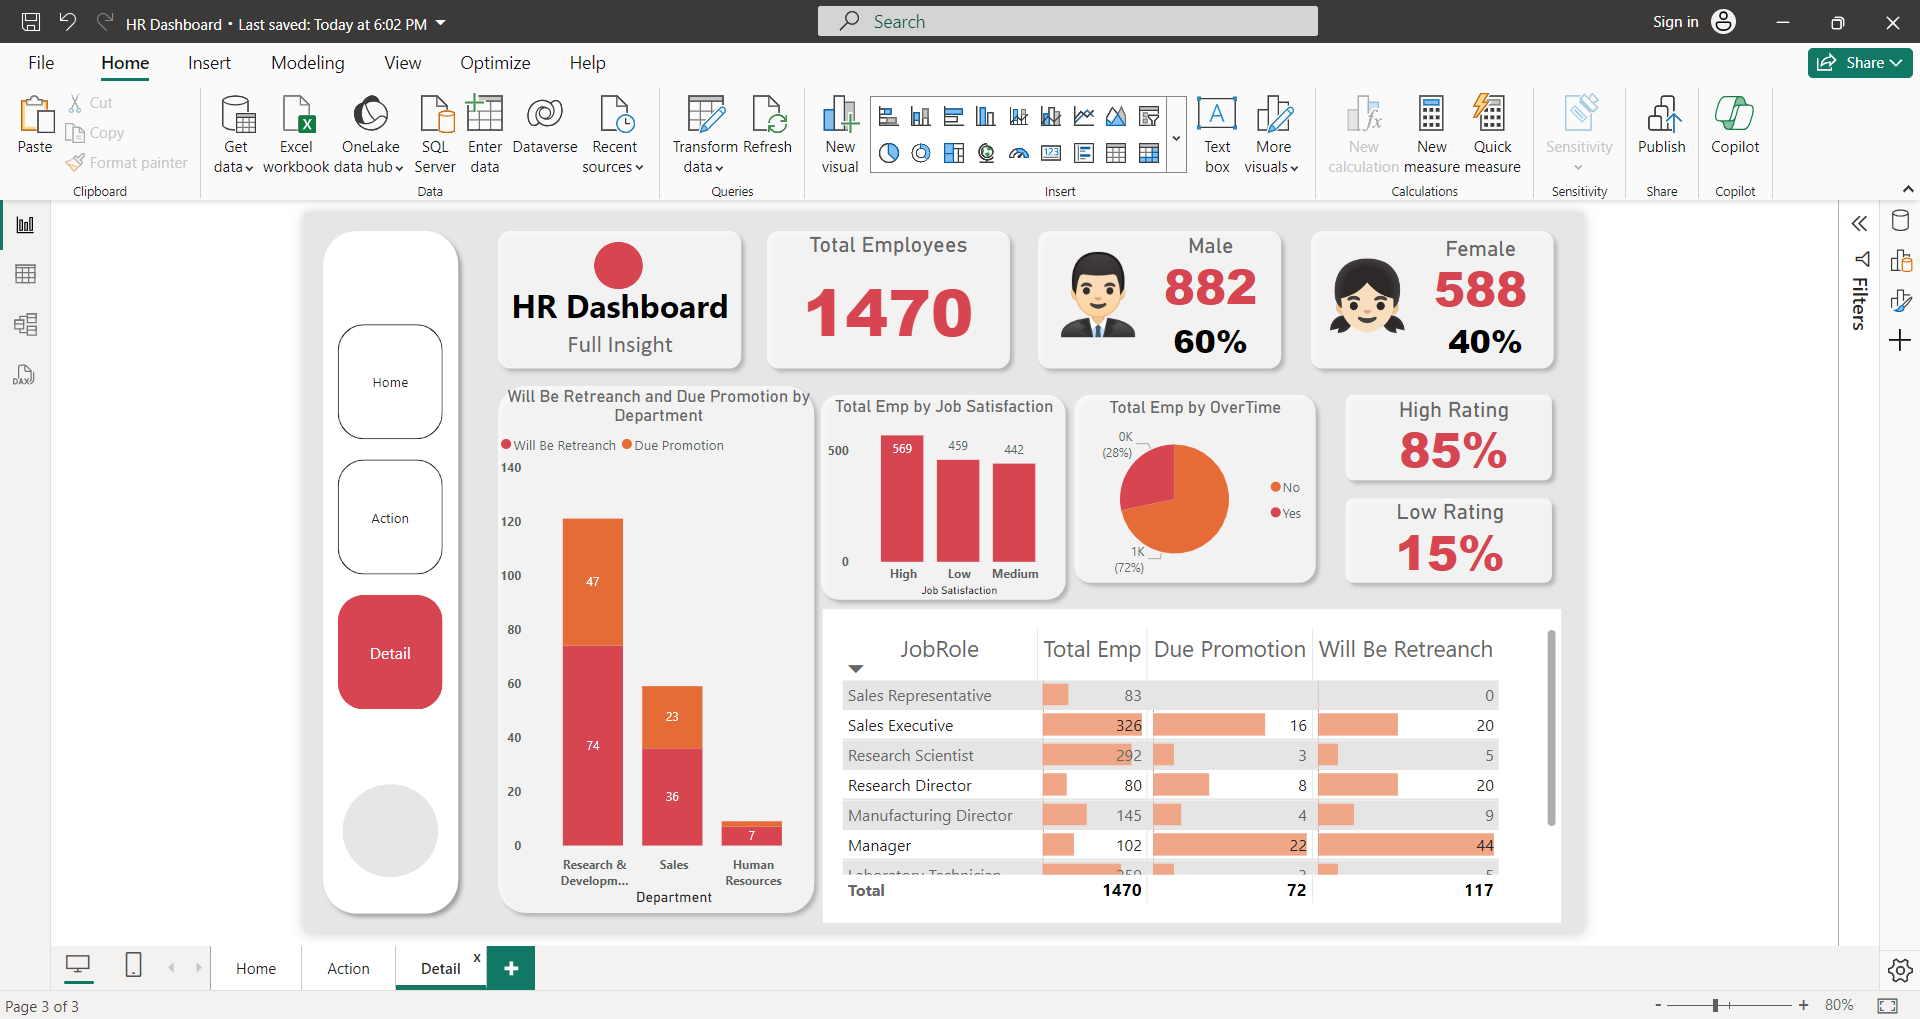

The page's visual inventory and layout, read from the dashboard file:
{"tool":"powerbi","page":{"name":"Detail","canvas":[1280,720],"ordinal":2},"visuals":[{"type":"shape","box":[9.7,8.4,153.2,700.9],"z":0},{"type":"shape","box":[184.7,8.7,261.1,155.8],"z":1000},{"type":"shape","box":[453.5,8.7,261.1,155.8],"z":2000},{"type":"shape","box":[725.2,8.7,261.1,155.8],"z":3000},{"type":"shape","box":[996.9,8.7,261.1,155.8],"z":4000},{"type":"textbox","box":[191.3,66.7,249.6,75],"z":5000},{"type":"textbox","box":[191.3,111.4,249.6,62],"z":6000},{"type":"shape","box":[290,28.9,49.1,47.6],"z":7000},{"type":"card","title":"Total Employees","fields":{"Values":["All Measures.Total Emp"]},"box":[462.1,19.3,243.7,133.9],"z":8000},{"type":"card","title":"Male","fields":{"Values":["All Measures.Male"]},"box":[846.2,19.9,120.9,83.9],"z":9000},{"type":"card","fields":{"Values":["All Measures.% Male"]},"box":[846.2,103.8,120.9,49.8],"z":10000},{"type":"card","title":"Female","fields":{"Values":["All Measures.Female"]},"box":[1115.6,21.9,120.9,83.9],"z":11000},{"type":"card","fields":{"Values":["All Measures.% Female"]},"box":[1120.7,103.8,120.9,49.8],"z":12000},{"type":"image","box":[1020.6,39.8,84.5,85.7],"z":13000},{"type":"image","box":[744.4,29,101.3,105],"z":14000},{"type":"shape","box":[184.6,164.1,334.2,545.3],"z":15000},{"type":"columnChart","fields":{"Category":["HR Analytics Data.Department"],"Y":["All Measures.Will Be Retreanch","All Measures.Due Promotion"]},"box":[191.8,172.5,326.9,524.8],"z":16000},{"type":"shape","box":[507.9,172.5,263,223.2],"z":17000},{"type":"columnChart","fields":{"Category":["HR Analytics Data.Job Satisfaction"],"Y":["All Measures.Total Emp"]},"box":[518.8,182.2,242.5,206.3],"z":18000},{"type":"shape","box":[761.3,172.5,259.4,206.3],"z":19000},{"type":"shape","box":[1032.7,172.5,224.4,103.8],"z":20000},{"type":"shape","box":[1032.7,276.3,224.4,102.5],"z":21000},{"type":"pieChart","fields":{"Category":["HR Analytics Data.OverTime"],"Y":["All Measures.Total Emp"]},"box":[770.9,183.4,240.1,185.8],"z":22000},{"type":"pivotTable","fields":{"Rows":["HR Analytics Data.JobRole"],"Values":["All Measures.Total Emp","All Measures.Due Promotion","All Measures.Will Be Retreanch"]},"box":[518.8,395.7,738.3,313.7],"z":23000},{"type":"card","title":"High Rating","fields":{"Values":["All Measures.% High Rating"]},"box":[1042.4,183.4,214.7,82],"z":24000},{"type":"card","title":"Low Rating","fields":{"Values":["All Measures.% Low Rating"]},"box":[1042.4,285.9,207.5,83.2],"z":25000},{"type":"shape","box":[38.6,570.6,95.3,92.9],"z":26000},{"type":"pageNavigator","box":[33.8,111.2,105,386.2],"z":26001}]}

Visuals, with their boxes on the page's 1280x720 design canvas (x1, y1, x2, y2). These are canvas units, not pixel positions in the 1920x1019 screenshot, which may show the page scaled, cropped or inside an application window:
shape: (left=10, top=8, right=163, bottom=709)
shape: (left=185, top=9, right=446, bottom=164)
shape: (left=454, top=9, right=715, bottom=164)
shape: (left=725, top=9, right=986, bottom=164)
shape: (left=997, top=9, right=1258, bottom=164)
textbox: (left=191, top=67, right=441, bottom=142)
textbox: (left=191, top=111, right=441, bottom=173)
shape: (left=290, top=29, right=339, bottom=76)
"Total Employees" card: (left=462, top=19, right=706, bottom=153)
"Male" card: (left=846, top=20, right=967, bottom=104)
card - All Measures.% Male: (left=846, top=104, right=967, bottom=154)
"Female" card: (left=1116, top=22, right=1236, bottom=106)
card - All Measures.% Female: (left=1121, top=104, right=1242, bottom=154)
image: (left=1021, top=40, right=1105, bottom=126)
image: (left=744, top=29, right=846, bottom=134)
shape: (left=185, top=164, right=519, bottom=709)
columnChart - HR Analytics Data.Department x All Measures.Will Be Retreanch: (left=192, top=172, right=519, bottom=697)
shape: (left=508, top=172, right=771, bottom=396)
columnChart - HR Analytics Data.Job Satisfaction x All Measures.Total Emp: (left=519, top=182, right=761, bottom=388)
shape: (left=761, top=172, right=1021, bottom=379)
shape: (left=1033, top=172, right=1257, bottom=276)
shape: (left=1033, top=276, right=1257, bottom=379)
pieChart - HR Analytics Data.OverTime x All Measures.Total Emp: (left=771, top=183, right=1011, bottom=369)
pivotTable - HR Analytics Data.JobRole x All Measures.Total Emp: (left=519, top=396, right=1257, bottom=709)
"High Rating" card: (left=1042, top=183, right=1257, bottom=265)
"Low Rating" card: (left=1042, top=286, right=1250, bottom=369)
shape: (left=39, top=571, right=134, bottom=664)
pageNavigator: (left=34, top=111, right=139, bottom=497)
